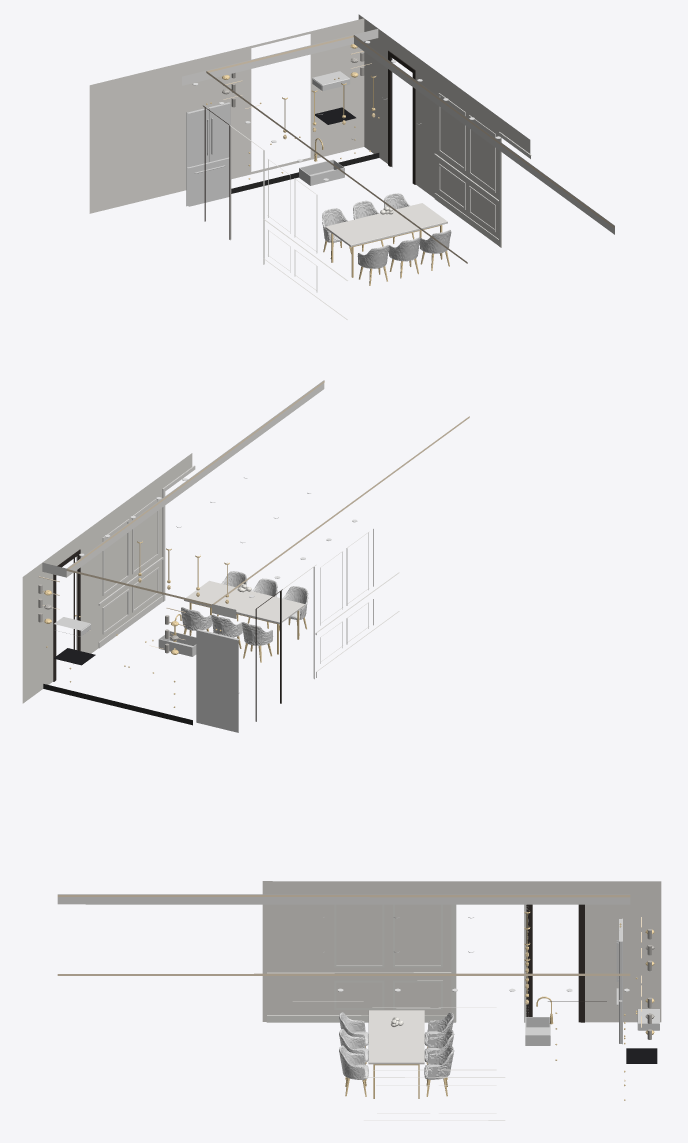
File: KITDIN.glb
The picture shows the model from 3 angles, top to bottom: view 1: azimuth 30°, elevation 25°; view 2: azimuth 150°, elevation 25°; view 3: azimuth 270°, elevation 25°; orthographic projection. The views are drawn at different scales.
Parts seen in each view (by area): view 1: WEB_KITDIN; view 2: WEB_KITDIN; view 3: WEB_KITDIN.
Part boxes in pixels (<box>): WEB_KITDIN: <box>89,14,614,319</box>; WEB_KITDIN: <box>22,380,469,732</box>; WEB_KITDIN: <box>57,881,661,1120</box>.
Bounding box in the file's own units: 7.6 × 2.5 × 10.61.
